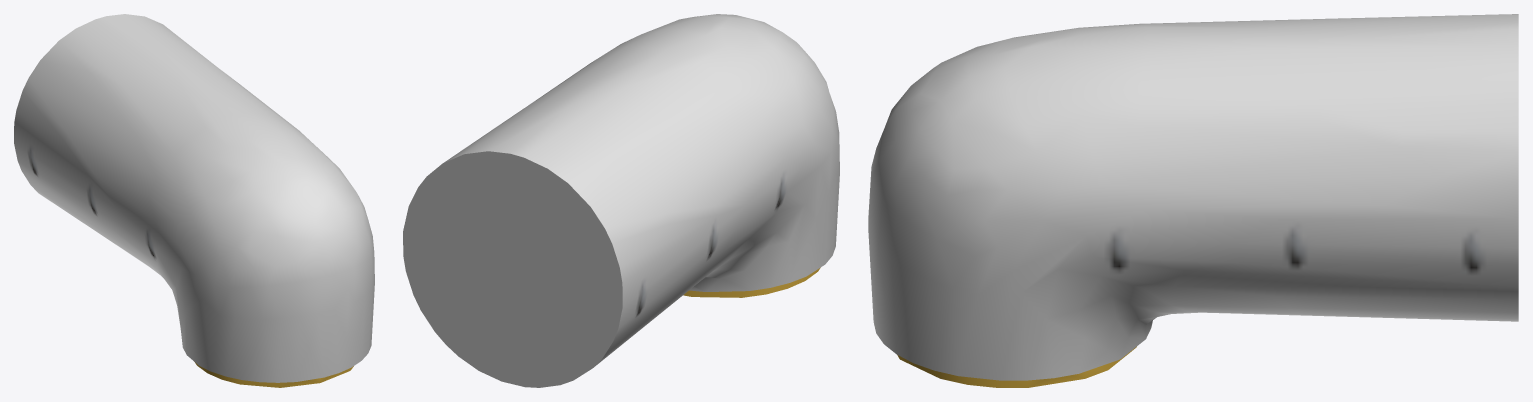
Rendered from link_bicep.glb.
3 renders of one model, left to right at view 1: azimuth 30°, elevation 25°; view 2: azimuth 150°, elevation 25°; view 3: azimuth 270°, elevation 25°, orthographic. The views are drawn at different scales.
Visible parts, largest first — view 1: link_bicep.3obj; view 2: link_bicep.3obj; view 3: link_bicep.3obj.
Part boxes in pixels (<box>): link_bicep.3obj: <box>14,14,374,387</box>; link_bicep.3obj: <box>403,14,839,387</box>; link_bicep.3obj: <box>868,14,1518,387</box>.
Size of the model in its own units: 0.1121 by 0.1233 by 0.237.
1 material, 1 textured.
